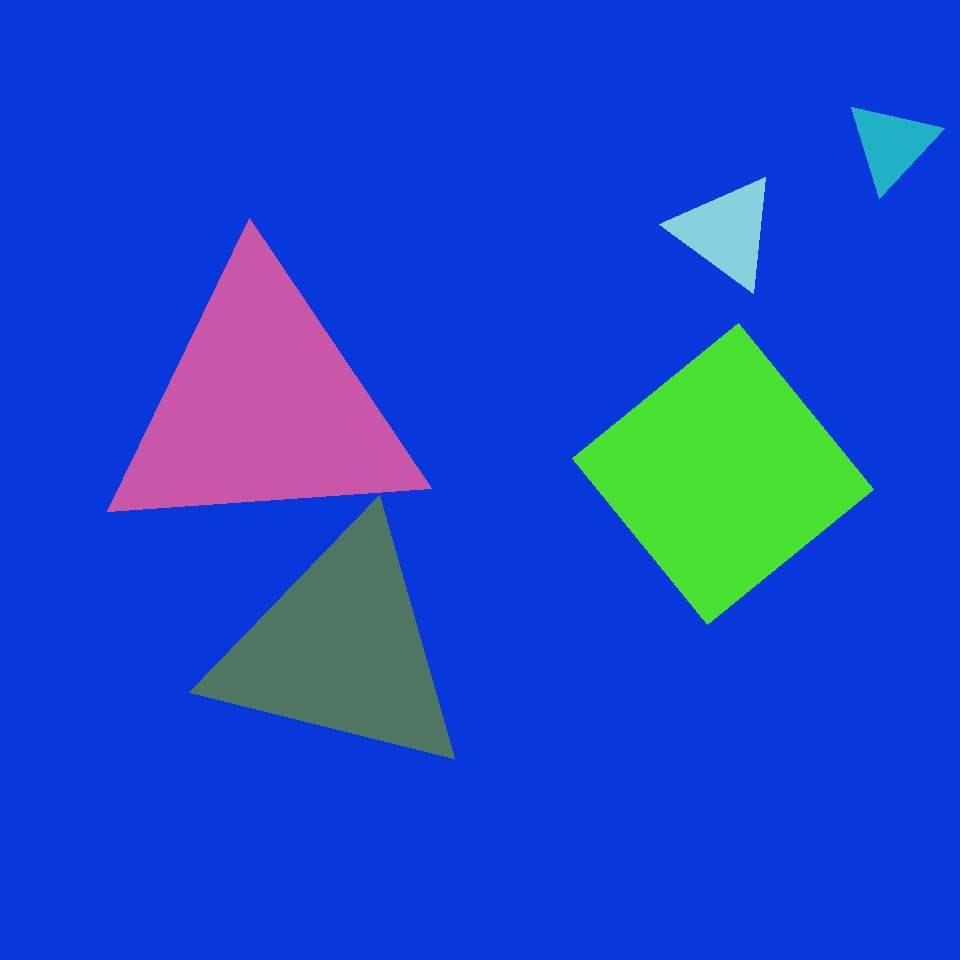circle: (101, 259, 425, 552), (208, 518, 474, 780), (641, 71, 860, 321), (152, 202, 378, 440), (144, 672, 348, 864), (673, 174, 779, 290), (846, 100, 938, 190)
square: (573, 324, 874, 624)
triangle: (293, 510, 671, 888), (230, 722, 361, 852), (220, 291, 345, 416)
